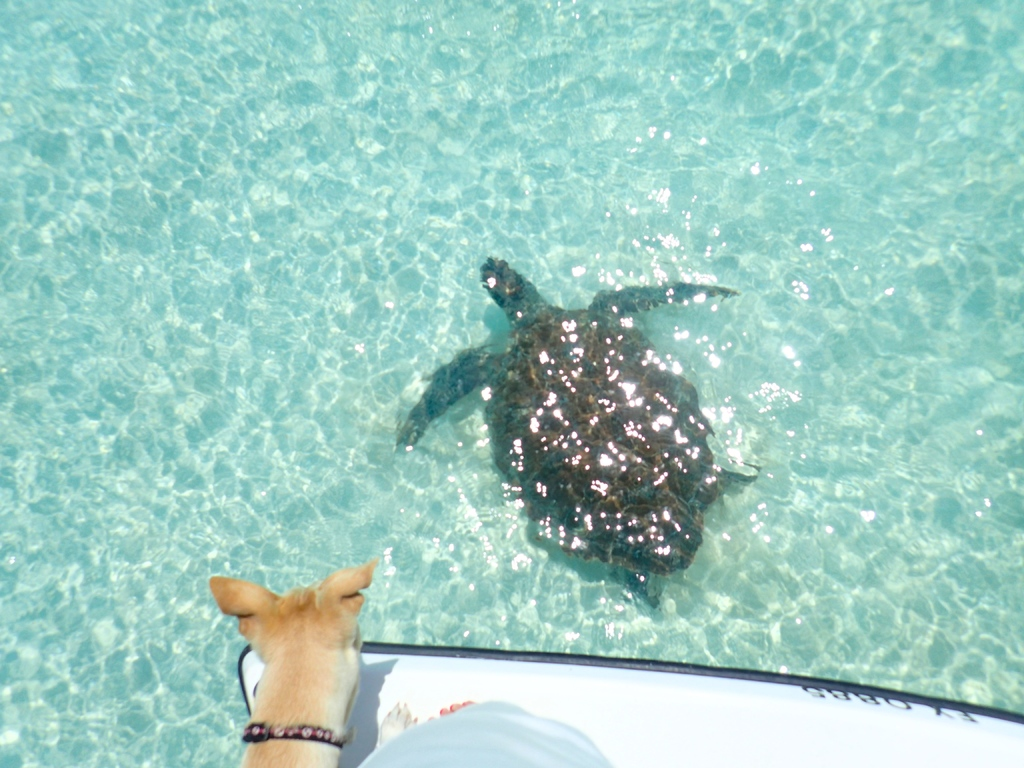Sea turtles: (391, 255, 754, 609)
